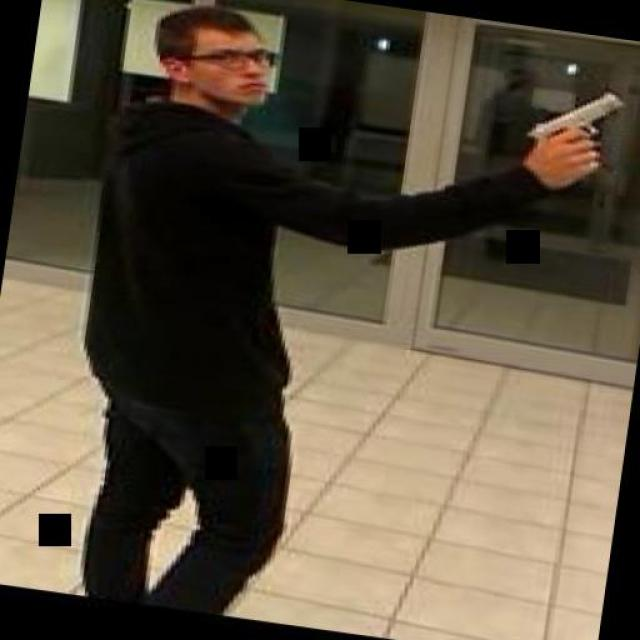gun: (512, 79, 620, 171)
